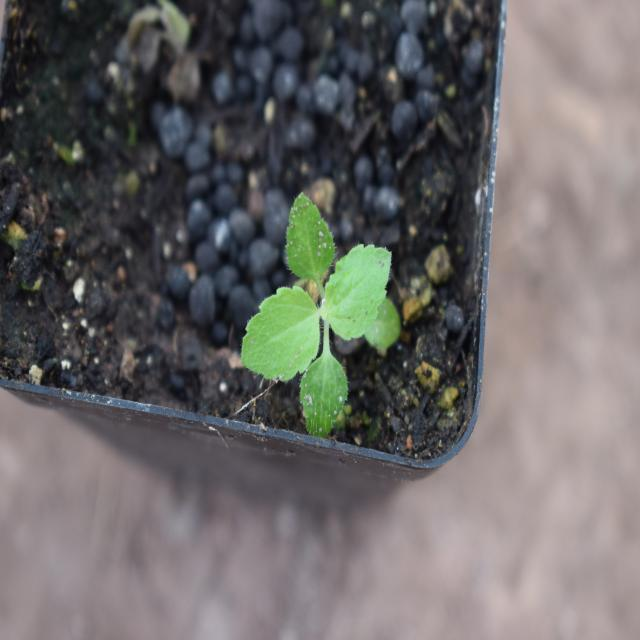billygoat_weed: (242, 180, 402, 424)
